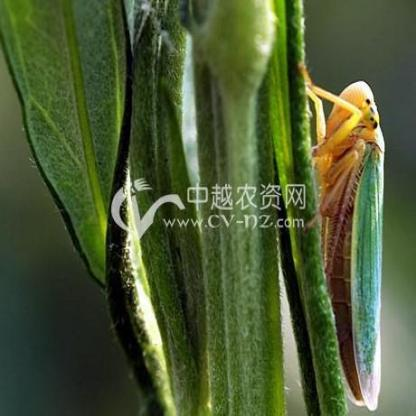Green-Leafhopper: (299, 59, 396, 416)
